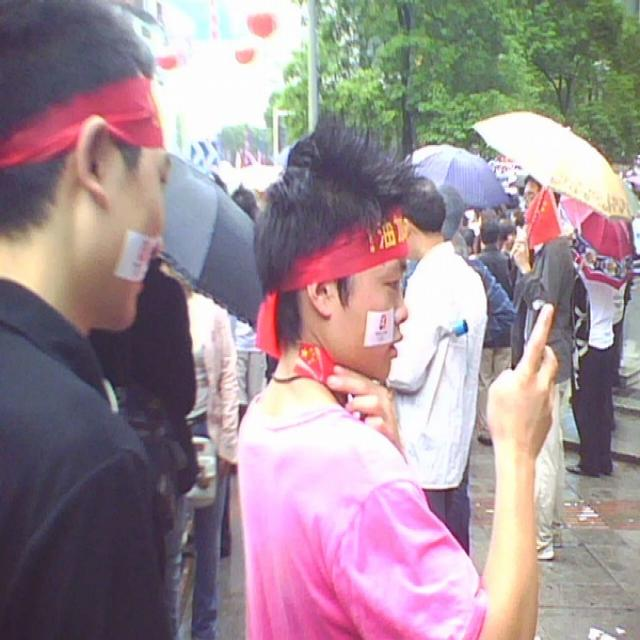nomask: (104, 115, 163, 334), (345, 255, 408, 379)
